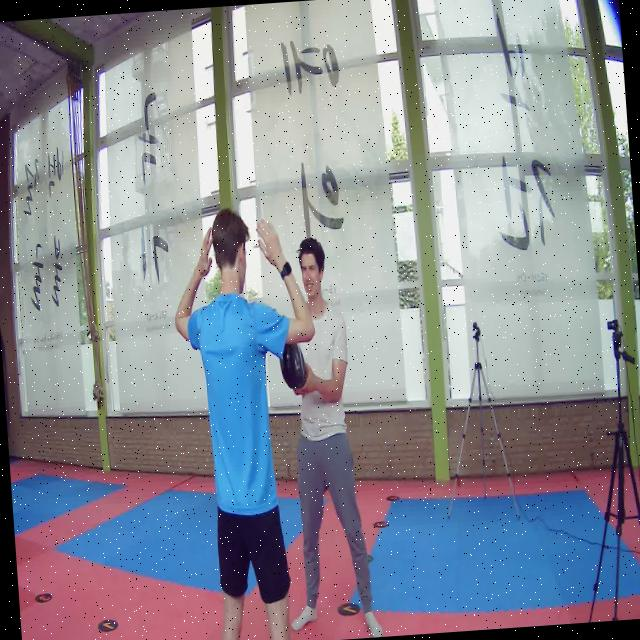paddle: (279, 341, 307, 387)
